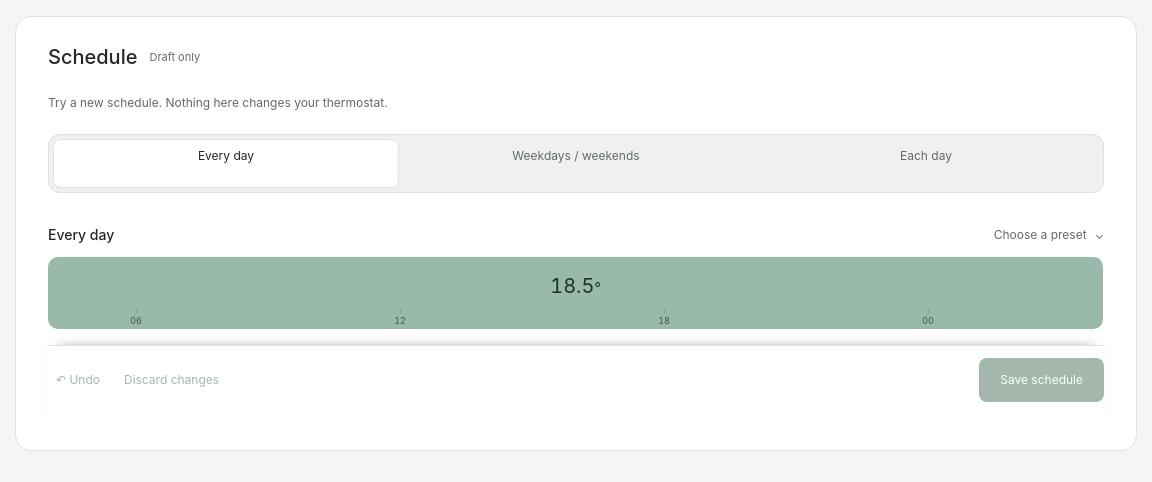
Test: cancels pointer gestures without edits and commits a completed drag as one undo step
Press the mouse on the element with class "timeline" at (576, 293), box [48, 257, 1104, 329]
Press the mouse on the element with class "timeline" at (576, 293), box [48, 257, 1104, 329]
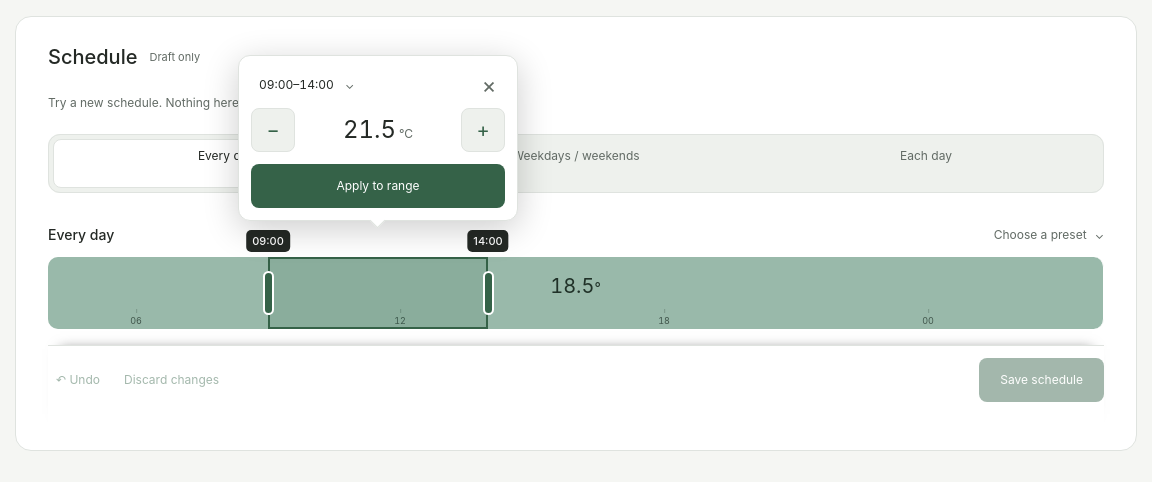
Expected: the button "09:00–14:00 ⌄" is shown, [251, 69, 362, 101]
Click the button with aria-label "Set 21.5°C for this range" at (378, 186), box [251, 164, 505, 208]
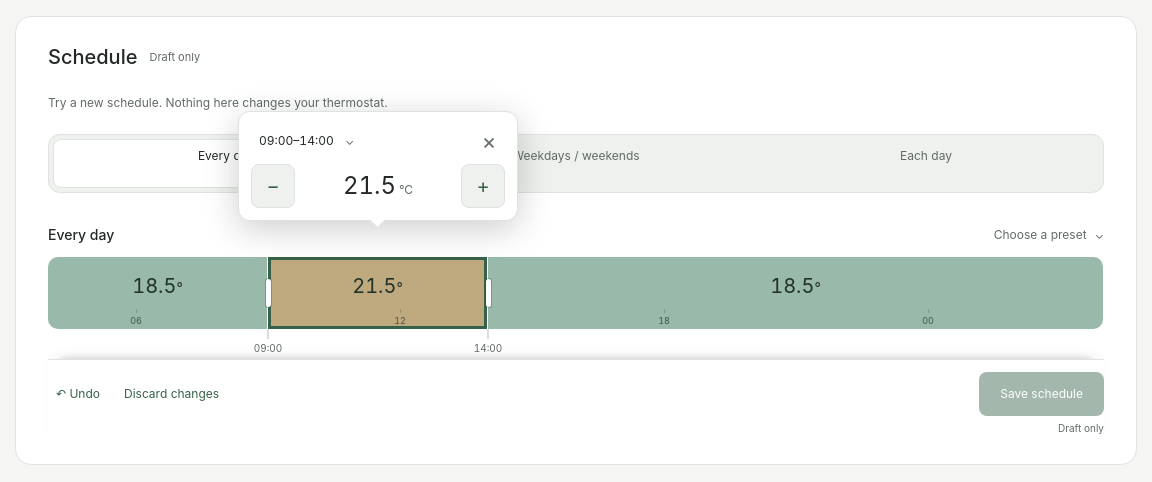
Press the mouse on the slider named "Boundary 1" at (268, 293), box [254, 257, 282, 329]
Expected: the button named "09:00 to 14:00, 21.5 degrees" is shown, [268, 257, 488, 329]
Click the button "↶ Undo" at (78, 394), box [48, 372, 108, 416]
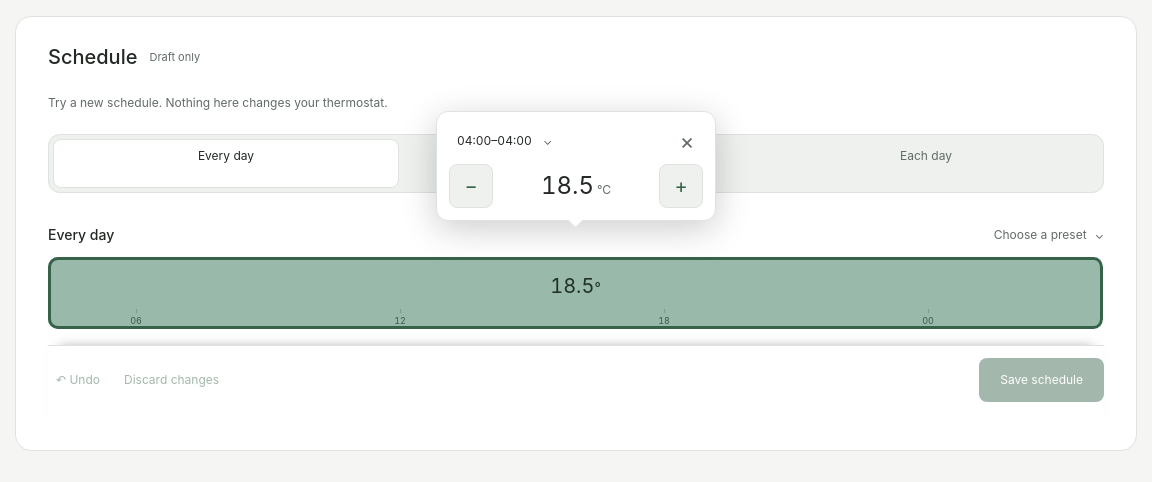
Expected: the button named "04:00 to 04:00, 18.5 degrees" is shown, [48, 257, 1104, 329]
